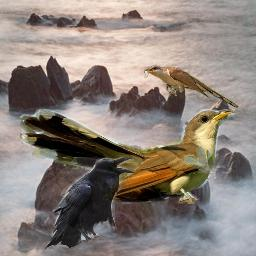Crow: (41, 157, 134, 253)
Cuckoo: (20, 109, 235, 204), (142, 65, 239, 108)
